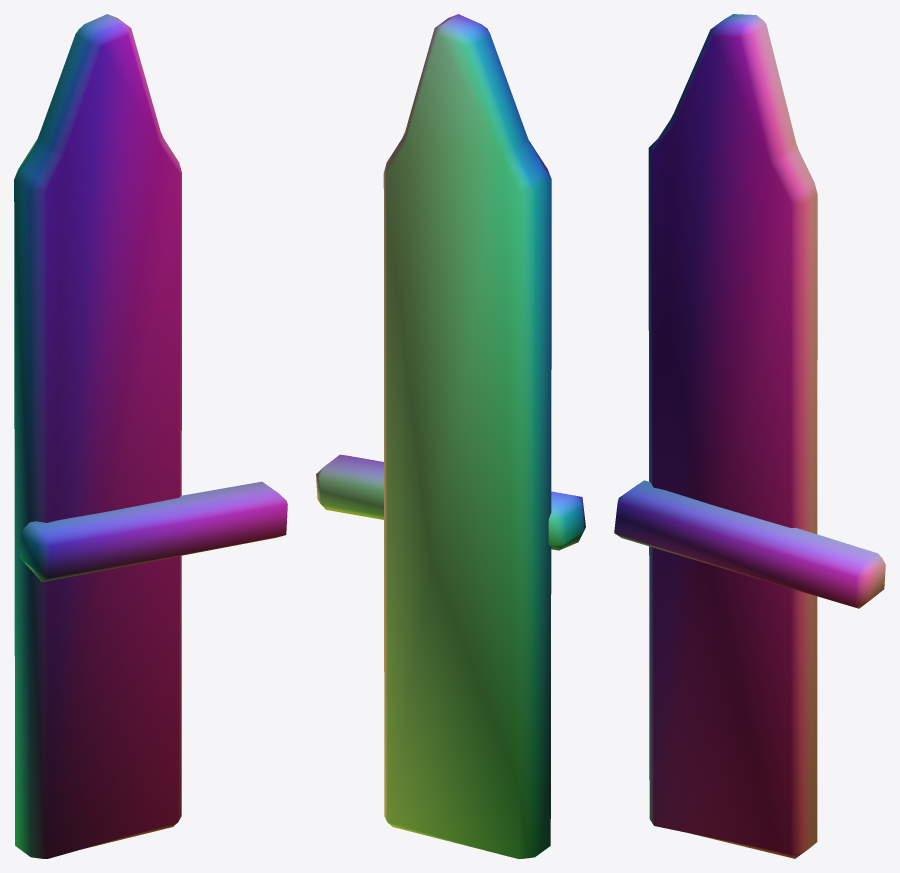
File: SM_Palisade_March_Pew_A.fbx
The picture shows the model from 3 angles, left to right: view 1: azimuth 30°, elevation 25°; view 2: azimuth 150°, elevation 25°; view 3: azimuth 330°, elevation 25°; orthographic projection.
Parts seen in each view (by area): view 1: SM_Palisade_March_Pew_A; view 2: SM_Palisade_March_Pew_A; view 3: SM_Palisade_March_Pew_A.
Boxes of the visible parts, left/top/right/bottom form: SM_Palisade_March_Pew_A: left=14, top=14, right=287, bottom=858; SM_Palisade_March_Pew_A: left=316, top=14, right=585, bottom=858; SM_Palisade_March_Pew_A: left=614, top=14, right=885, bottom=858.
Size of the model in its own units: 0.4454 by 1.38 by 0.1492.
